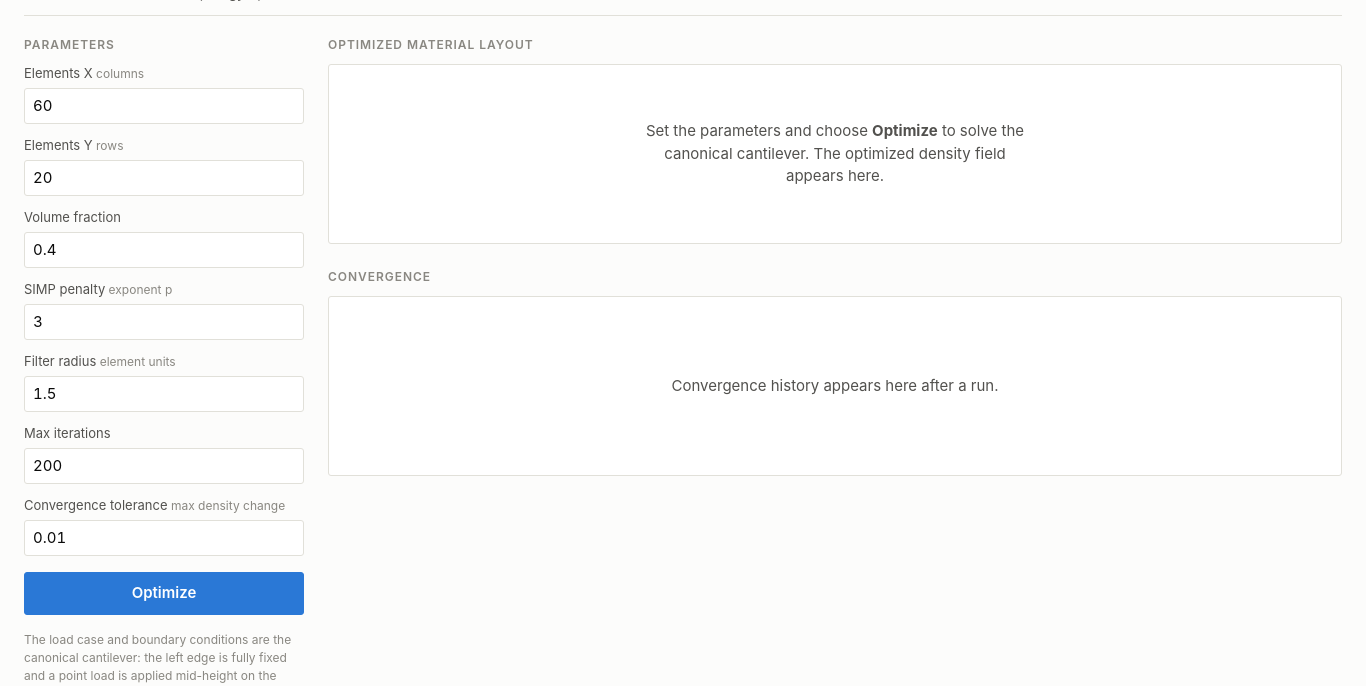
Scenario: failures › reports an unreachable backend as a network problem
Click the button "Optimize": (164, 593) 24,572 -> 304,614
(page scrolled)
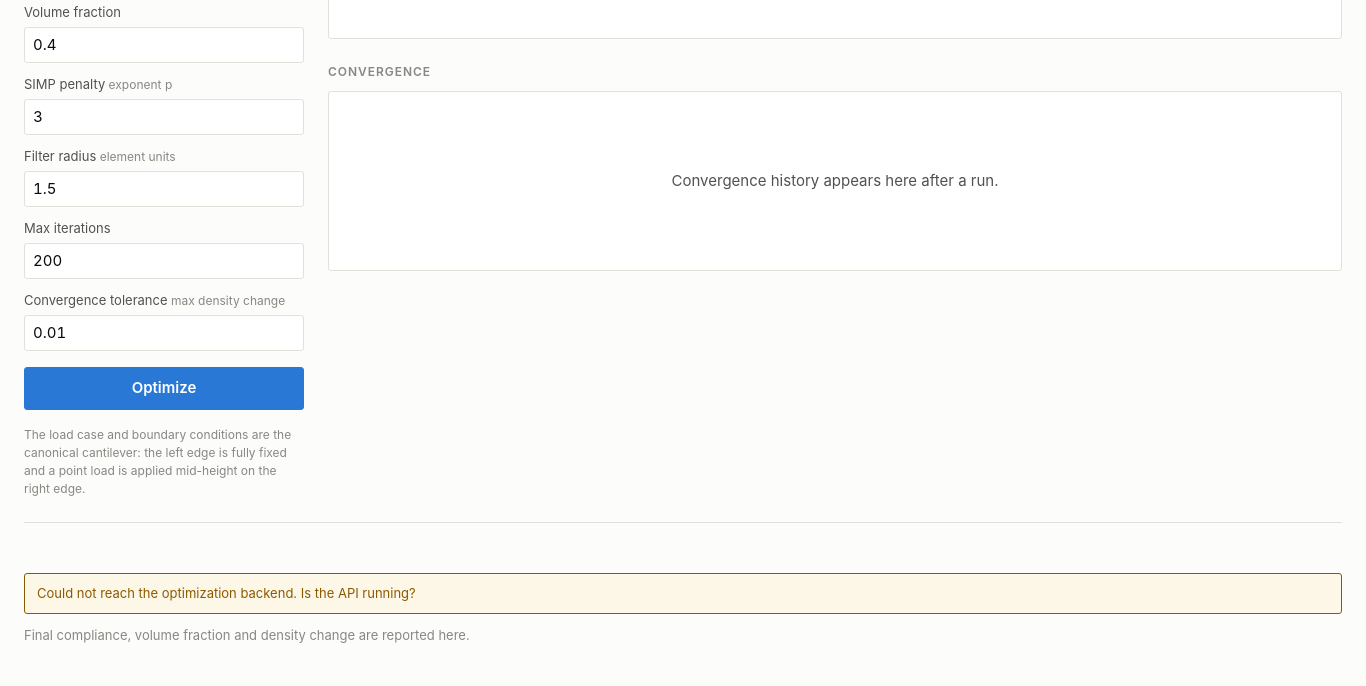
Now the message "Could not reach the optimization backend. Is the API running?" is shown, box 24,572 -> 1342,614
